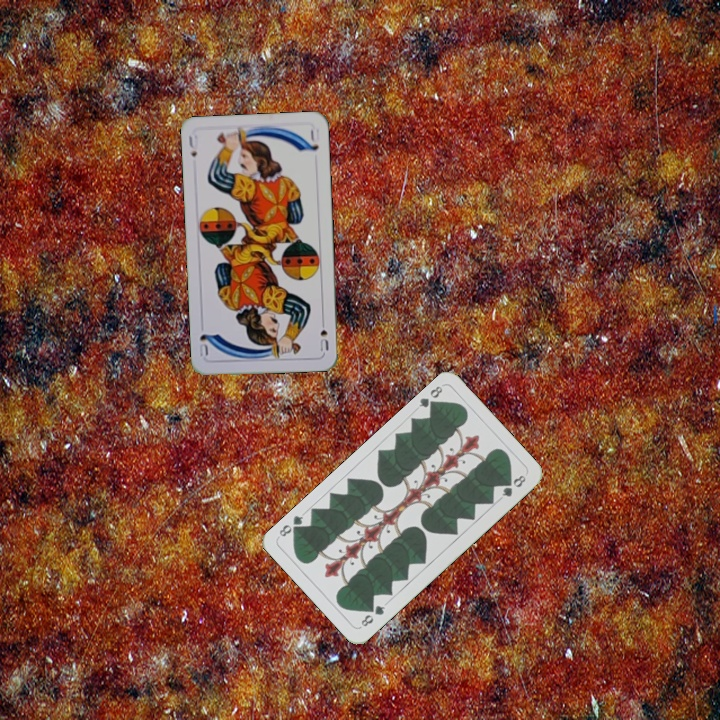G8: (415, 382, 445, 413), (357, 601, 388, 629)
SU: (316, 314, 331, 354), (184, 131, 201, 160)
